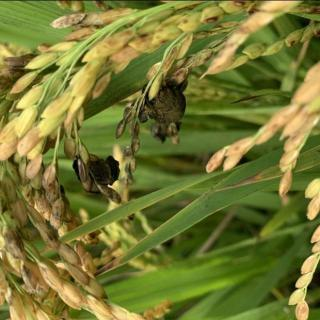Gosong-Palsu: (133, 79, 190, 138), (72, 150, 121, 192)
